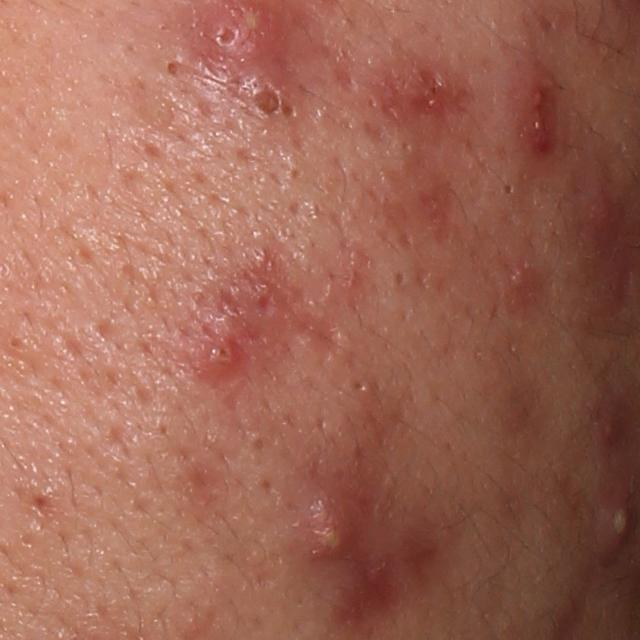atrophic_scar: (285, 306, 339, 362), (130, 78, 172, 133)
comedo: (3, 331, 31, 356), (159, 53, 183, 81), (386, 267, 410, 292), (247, 433, 268, 453), (285, 161, 304, 183), (500, 180, 518, 199)
papule: (360, 48, 470, 132), (575, 172, 623, 258), (237, 75, 294, 127), (521, 83, 559, 159), (242, 278, 287, 327), (507, 263, 538, 298)
pustule: (183, 328, 251, 389), (300, 496, 356, 559), (601, 488, 632, 566)
